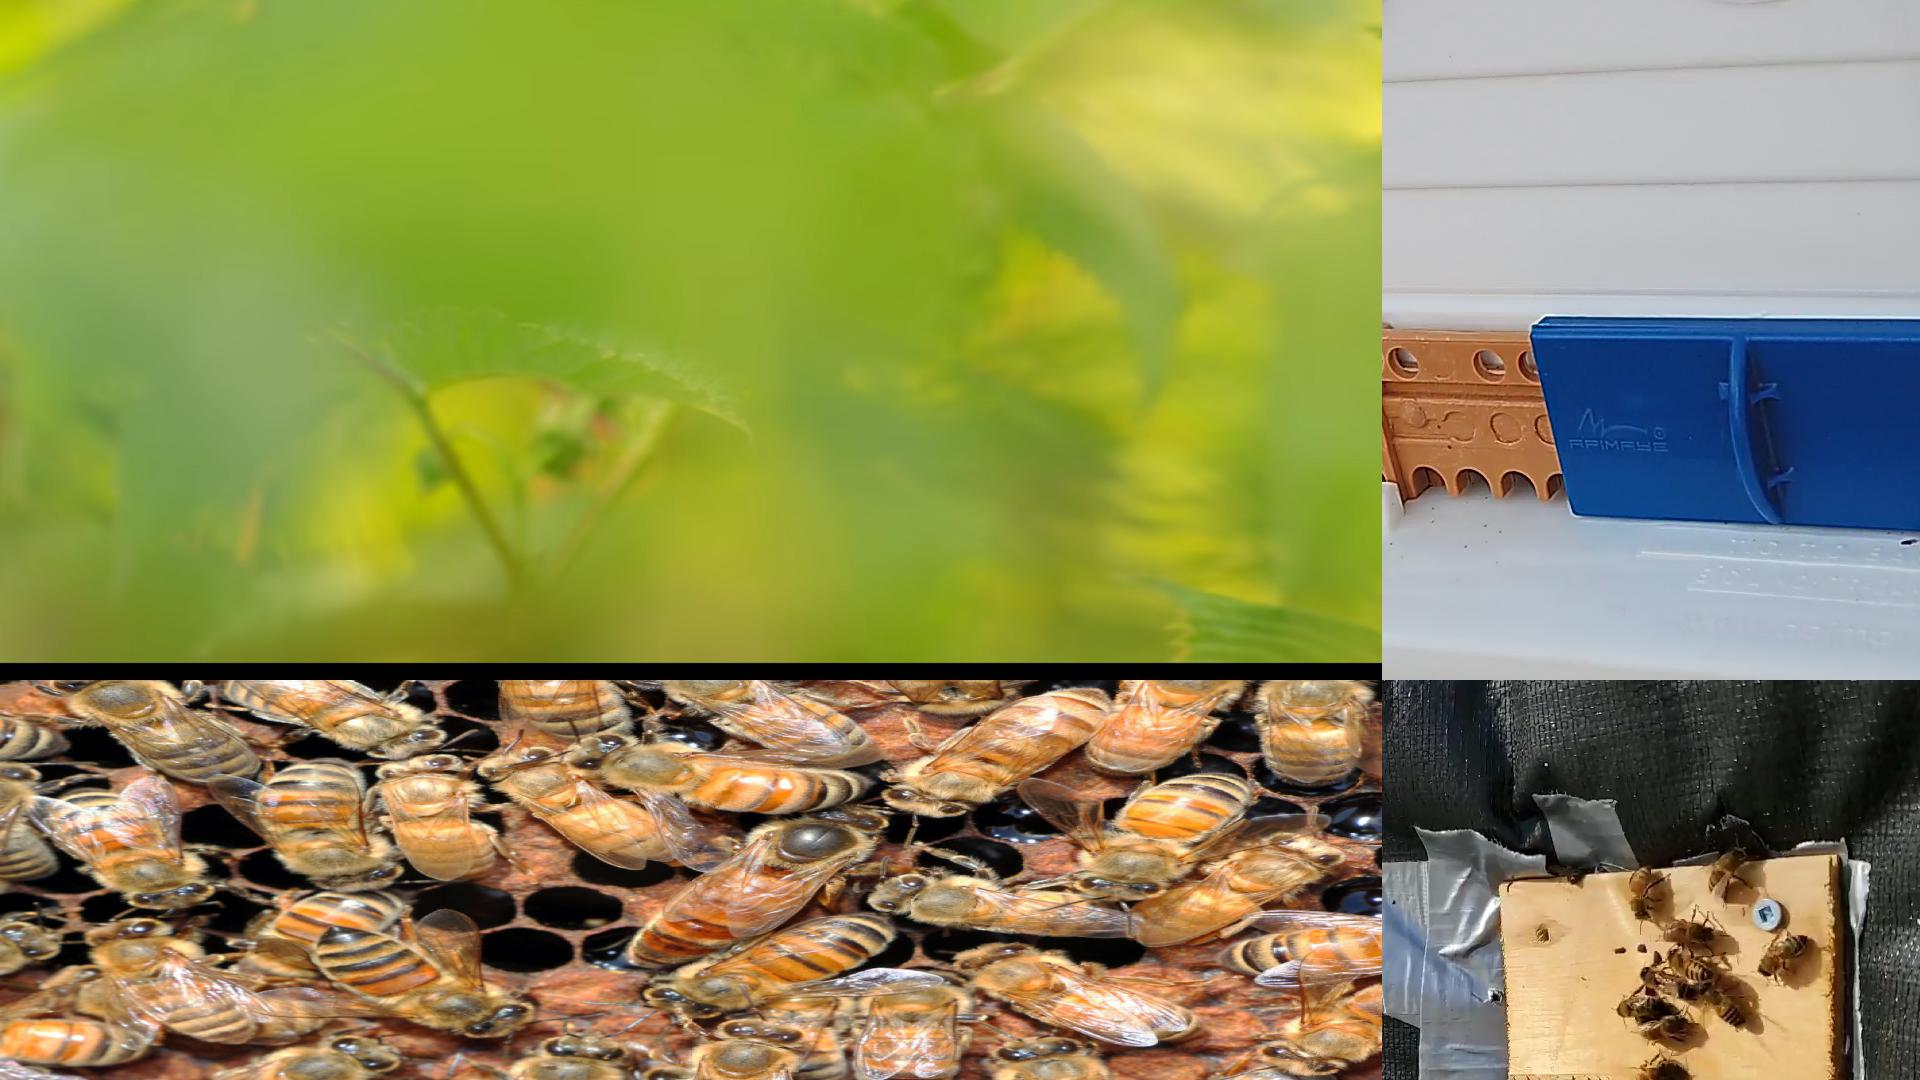bee: (890, 690, 1101, 815), (647, 915, 891, 1017), (579, 735, 876, 814), (1134, 833, 1342, 943), (485, 749, 683, 862), (964, 944, 1199, 1039), (40, 967, 340, 1038), (86, 919, 256, 1044), (54, 680, 253, 787), (332, 926, 529, 1031), (1085, 773, 1253, 890), (261, 758, 398, 893), (638, 680, 866, 761), (57, 787, 211, 906), (228, 680, 436, 760), (873, 878, 1141, 939), (249, 886, 411, 985), (377, 756, 497, 881), (1088, 680, 1238, 773), (1261, 680, 1365, 786), (864, 975, 967, 1079), (1213, 920, 1382, 981), (1276, 985, 1381, 1077), (498, 680, 632, 737), (228, 1036, 394, 1079), (0, 1018, 154, 1063), (770, 997, 853, 1079), (0, 761, 55, 878), (708, 1025, 800, 1079), (527, 1035, 632, 1079), (887, 680, 1019, 713), (997, 1040, 1106, 1079), (0, 711, 70, 760), (0, 922, 61, 973), (1759, 935, 1811, 976), (1710, 848, 1745, 895), (1701, 986, 1742, 1026), (1639, 968, 1689, 997), (1667, 947, 1712, 978), (1630, 865, 1654, 920), (1664, 920, 1713, 943), (1643, 1018, 1689, 1039), (1615, 997, 1663, 1017), (1626, 1064, 1665, 1079)
queen: (634, 806, 884, 965)
